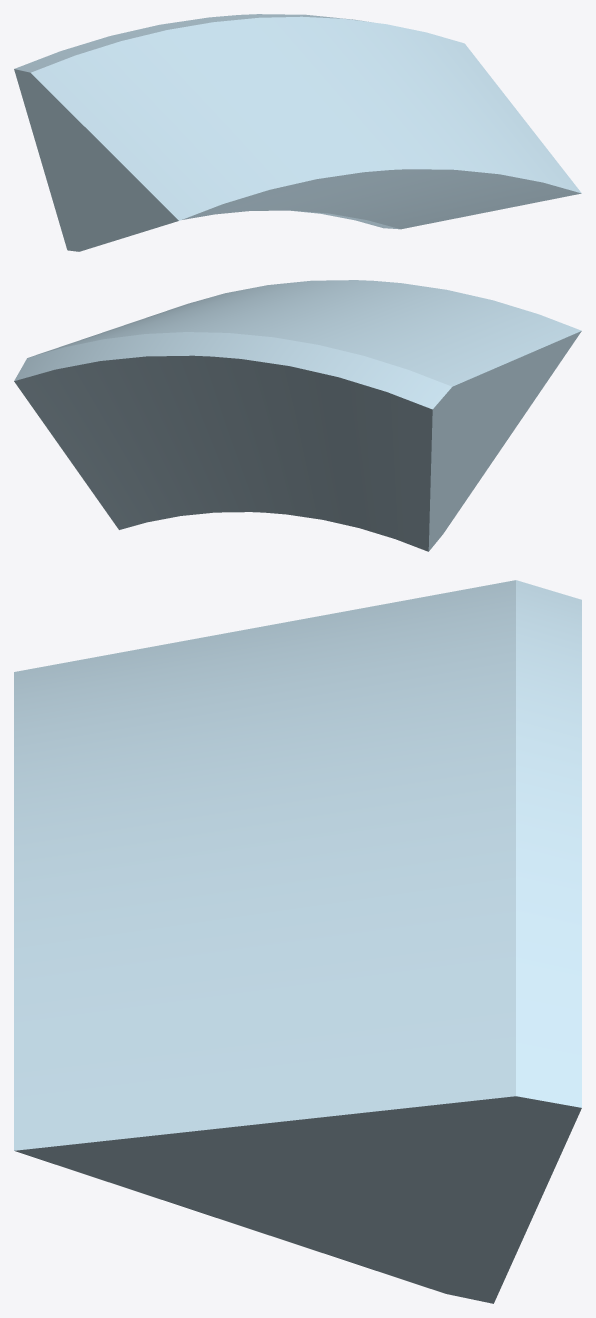
File: Sub_6_Cell_3_3.gltf
The picture shows the model from 3 angles, top to bottom: view 1: azimuth 30°, elevation 25°; view 2: azimuth 150°, elevation 25°; view 3: azimuth 270°, elevation 25°; orthographic projection. The views are drawn at different scales.
Visible parts, largest first — view 1: Sub_6_Cell_3_3; view 2: Sub_6_Cell_3_3; view 3: Sub_6_Cell_3_3.
Part boxes in pixels (x1=…): Sub_6_Cell_3_3: x1=14, y1=14, x2=581, y2=251; Sub_6_Cell_3_3: x1=14, y1=280, x2=581, y2=551; Sub_6_Cell_3_3: x1=14, y1=580, x2=581, y2=1303.
Size of the model in its own units: 0.093 by 0.0501 by 0.0589.
